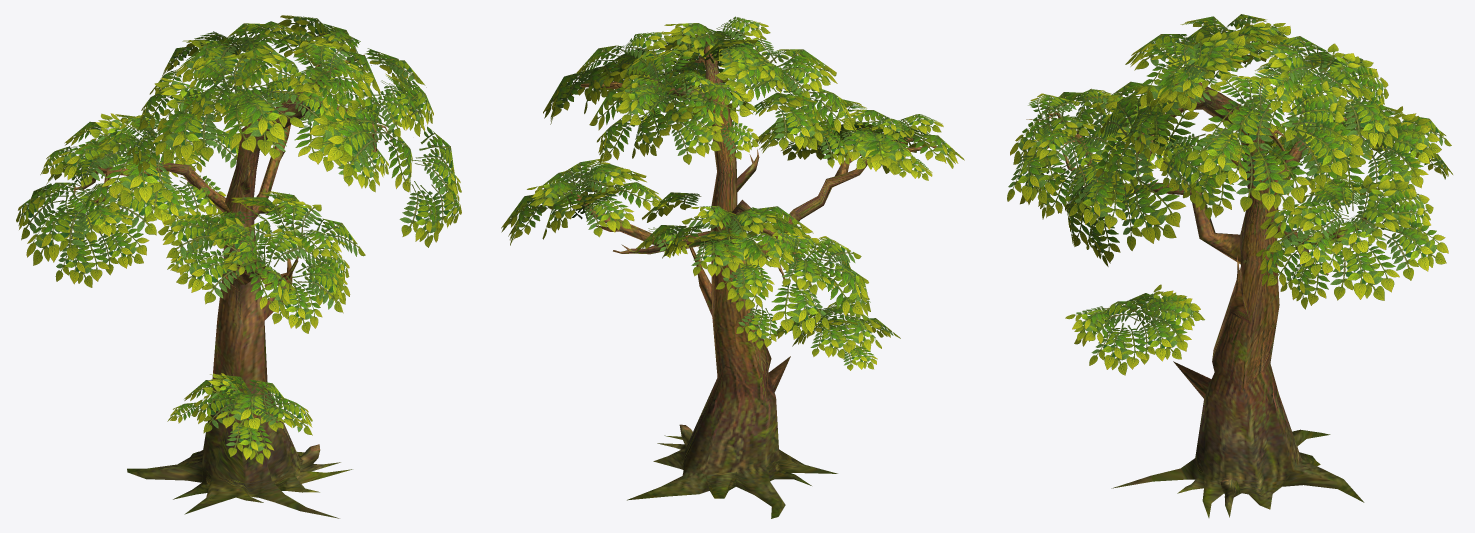
File: Three.FBX
3 views of the same model, side by side, from view 1: azimuth 30°, elevation 25°; view 2: azimuth 150°, elevation 25°; view 3: azimuth 270°, elevation 25° (orthographic). The views are drawn at different scales.
Parts seen in each view (by area): view 1: Object001; view 2: Object001; view 3: Object001.
Part boxes in pixels (box(x1,y1,x2,y2)): Object001: box(16, 15, 461, 518); Object001: box(501, 16, 964, 518); Object001: box(1007, 14, 1452, 517).
Bounding box in the file's own units: 530 × 607 × 560.
